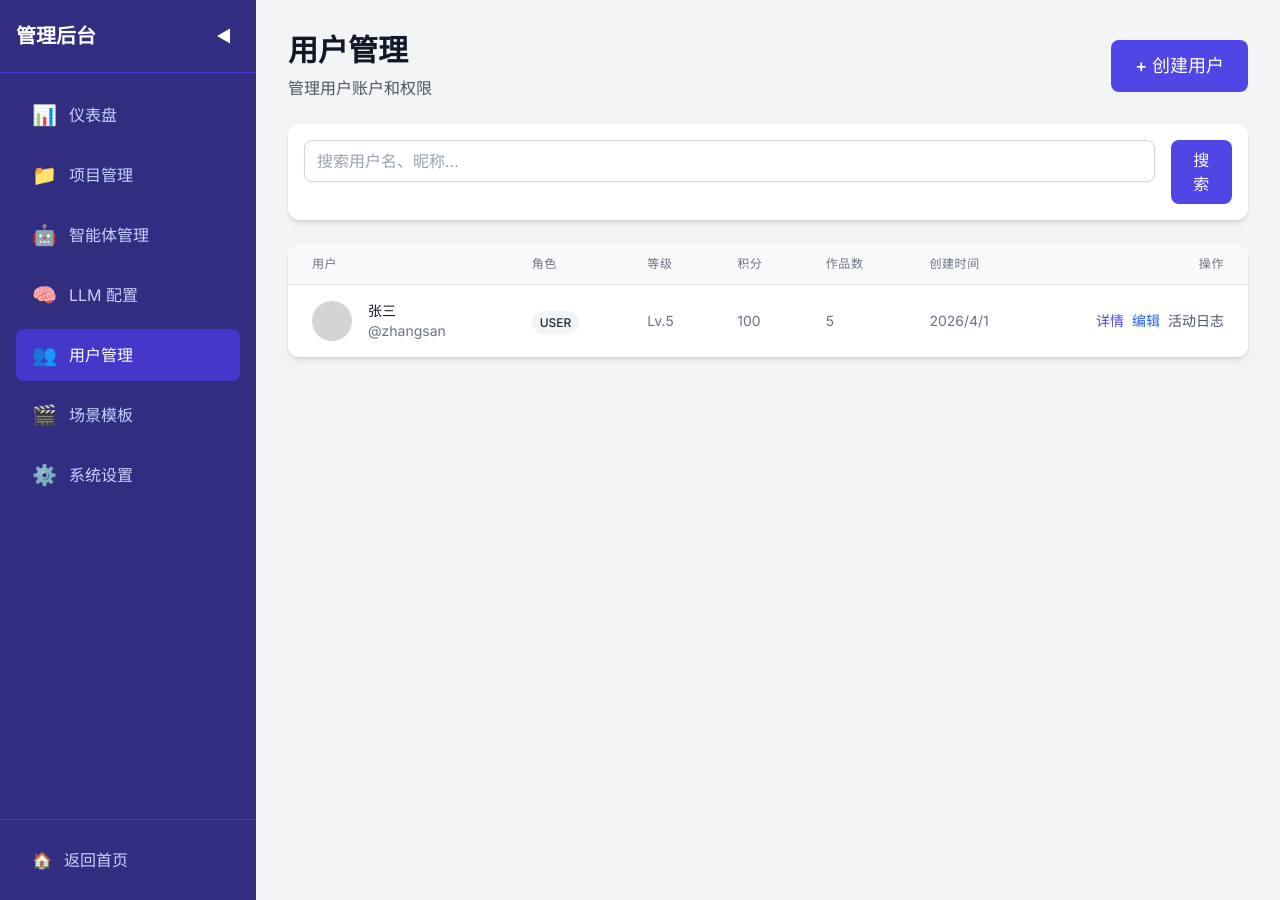
Test case: UsersPage › 创建新用户 › 应该显示创建用户模态框
Click the button "+ 创建用户" at (1180, 66), box [1111, 40, 1248, 92]
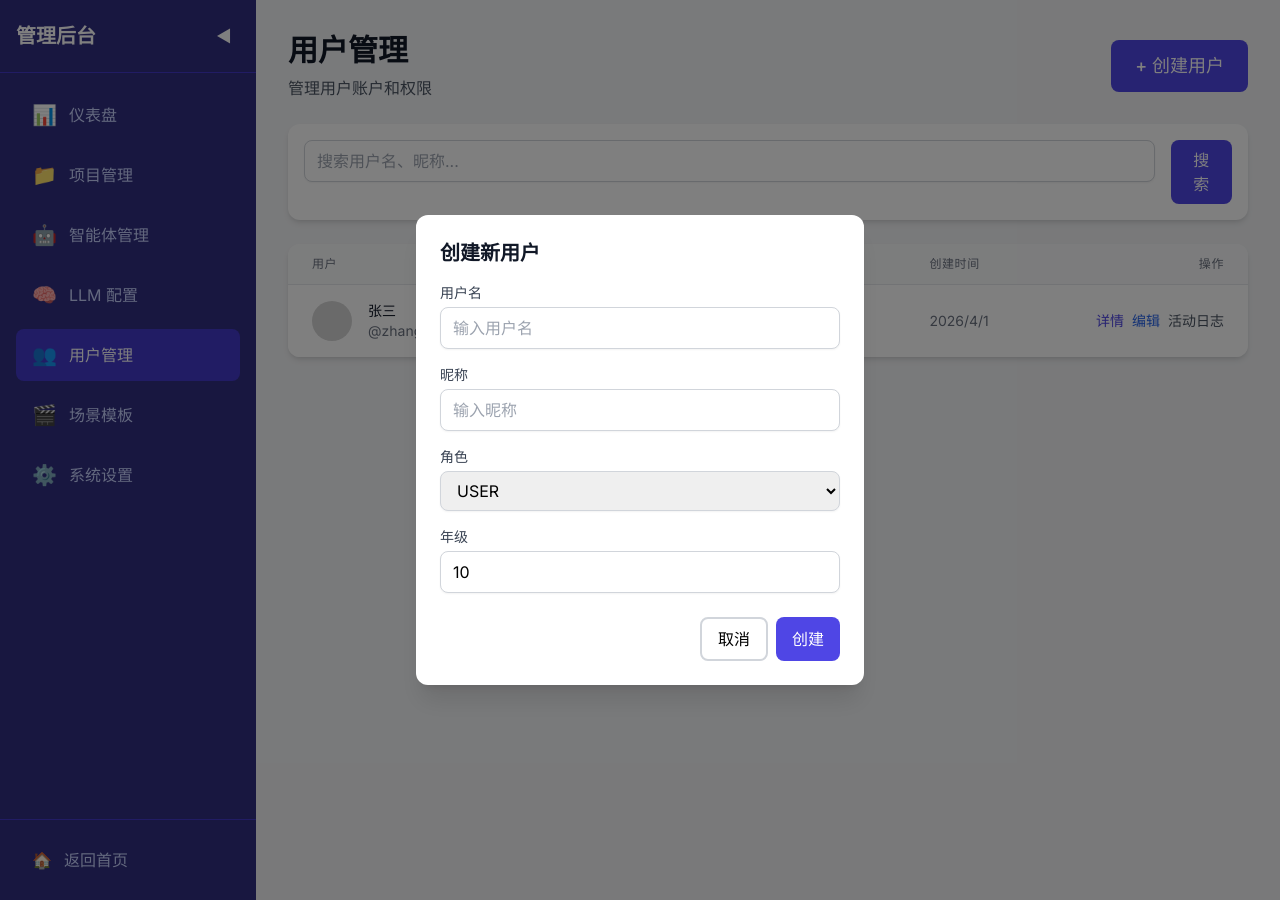
expect the heading "创建新用户" is shown: met, box [440, 241, 540, 265]
